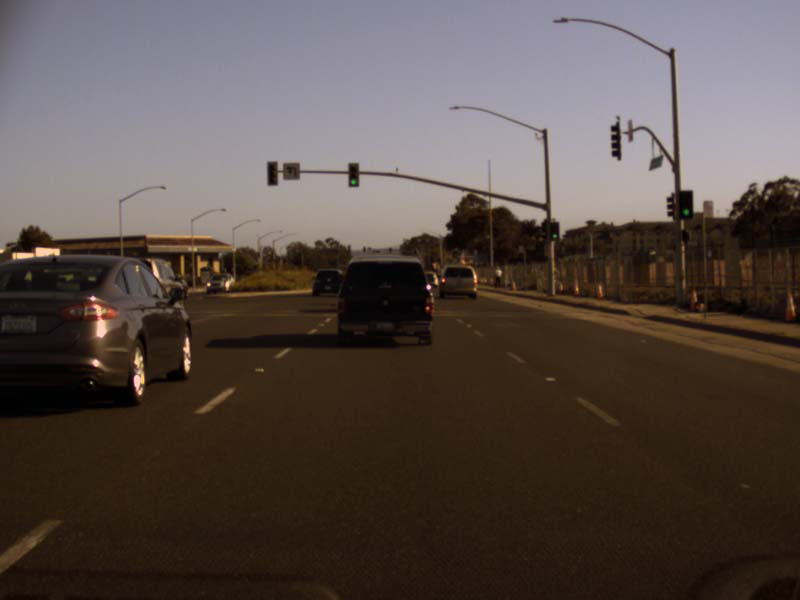Green: (677, 190, 693, 217), (347, 162, 359, 186), (550, 222, 559, 240)
Red: (266, 161, 278, 184)
